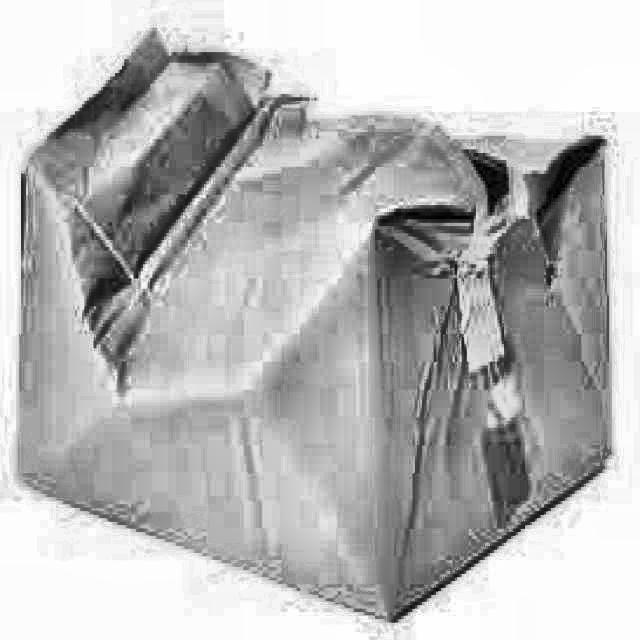box: (0, 23, 634, 639)
hole: (534, 137, 606, 249), (460, 125, 516, 227)
